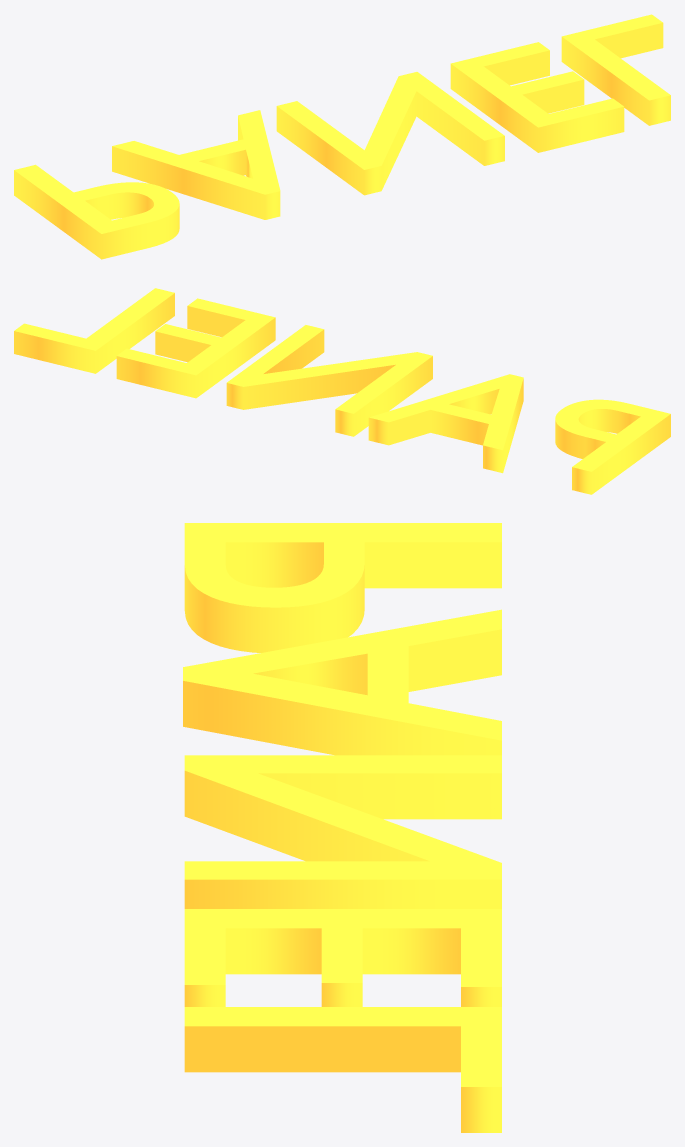
The model's file is PANEL.glb.
The picture shows the model from 3 angles, top to bottom: view 1: azimuth 30°, elevation 25°; view 2: azimuth 150°, elevation 25°; view 3: azimuth 270°, elevation 25°; orthographic projection. The views are drawn at different scales.
Visible parts, largest first — view 1: LABEL_PANEL; view 2: LABEL_PANEL; view 3: LABEL_PANEL.
Boxes of the visible parts, x1,y1,x2,y2 form: LABEL_PANEL: (14,14,670,259); LABEL_PANEL: (14,288,670,494); LABEL_PANEL: (183,523,501,1132).
Size of the model in its own units: 0.1577 by 0.006 by 0.0377.
